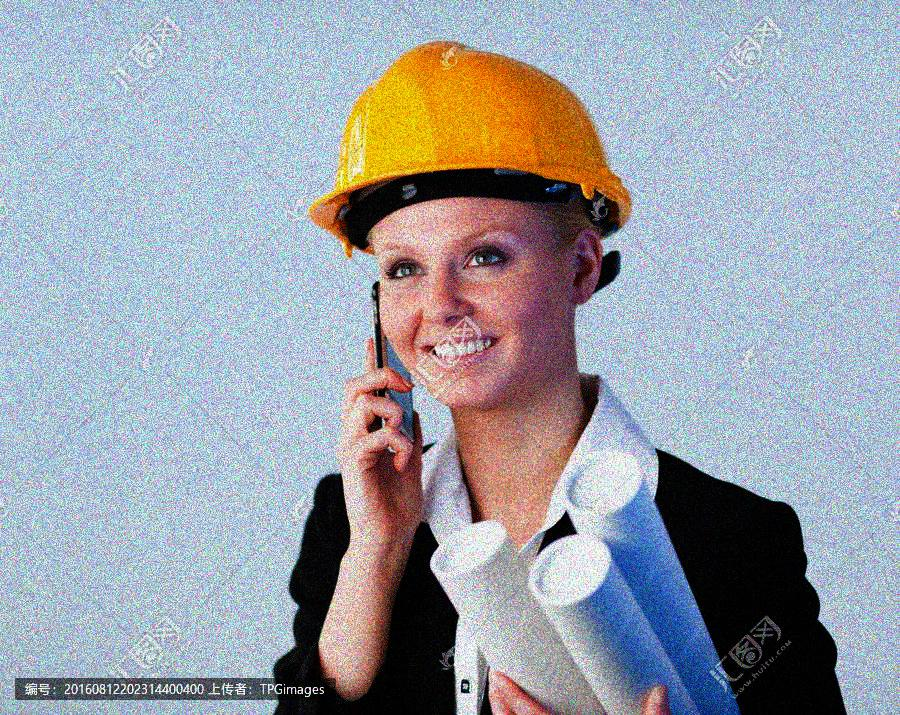helmet: (304, 41, 635, 410)
